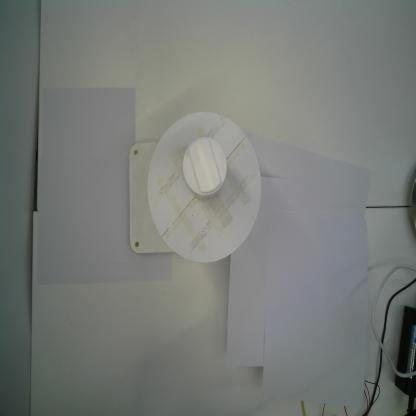Canned Food: (181, 135, 229, 203)
